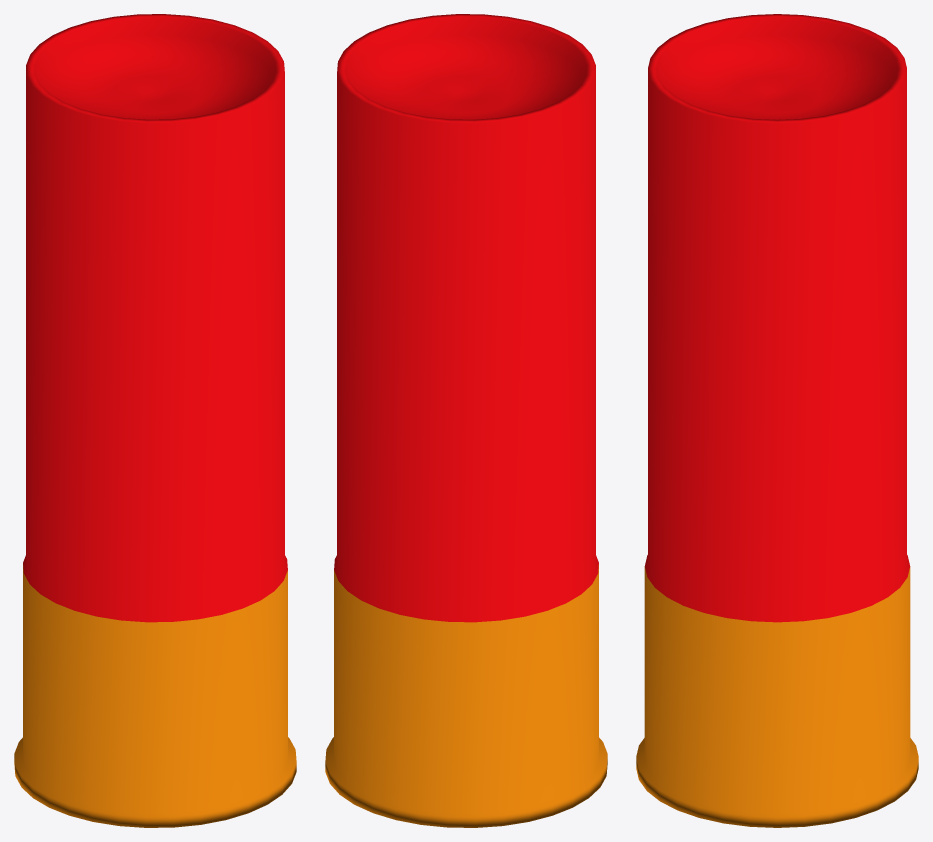
Rendered from 12_gauge_shells.glb.
3 views of the same model, side by side, from view 1: azimuth 30°, elevation 25°; view 2: azimuth 150°, elevation 25°; view 3: azimuth 270°, elevation 25° (orthographic).
Parts seen in each view (by area): view 1: shell; view 2: shell; view 3: shell.
Boxes of the visible parts, <box> form: shell: <box>14,14,296,827</box>; shell: <box>325,14,607,827</box>; shell: <box>636,14,918,827</box>.
Size of the model in its own units: 0.0141 by 0.0385 by 0.0141.
